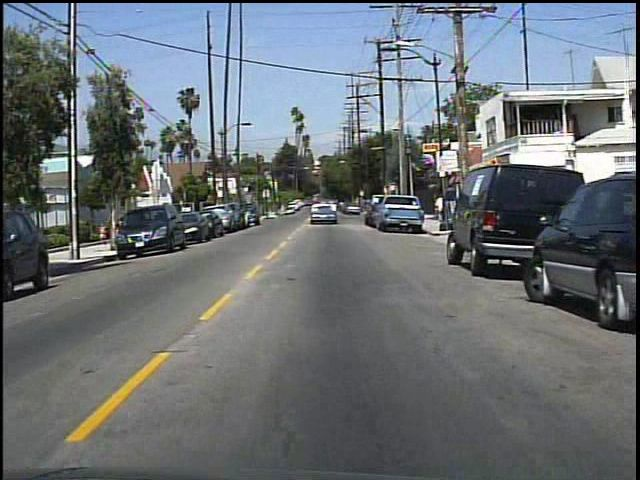person: (431, 194, 448, 225)
